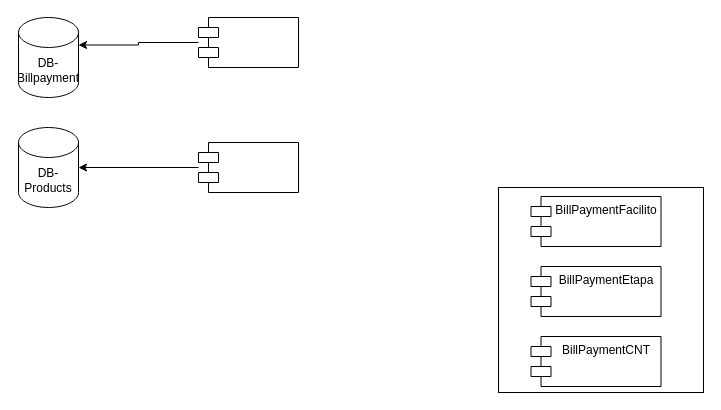
Image size: 721x410. Some labels were removed from this diagram. The centre of each missing label's shape, as x and y in pixels:
"Orquestador-BillPayment" belongs at point 248,42.
"Service-Products" belongs at point 248,167.
